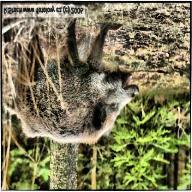boar: (19, 23, 171, 168)
